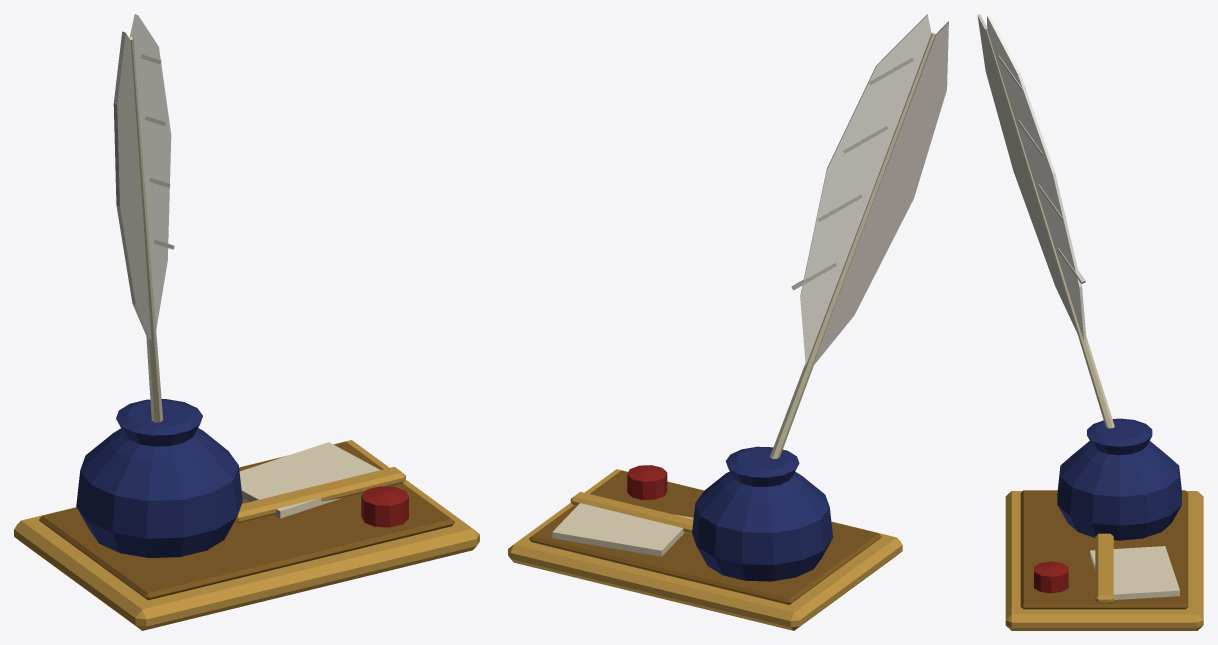
Rendered from inkwell.obj.
3 views of the same model, side by side, from view 1: azimuth 30°, elevation 25°; view 2: azimuth 150°, elevation 25°; view 3: azimuth 270°, elevation 25° (orthographic). The views are drawn at different scales.
Parts seen in each view (by area): view 1: lathe, box.001, box, prism, prism.001, box.007, box.002, lathe.002, lathe.004; view 2: lathe, prism, box, prism.001, box.001, box.007, lathe.002, box.002, lathe.004; view 3: lathe, box.001, box, prism, prism.001, box.007, lathe.002, box.002, lathe.004.
Boxes of the visible parts, x1,y1,x2,y2 form: lathe: (76,399,242,557); box.001: (39,441,454,600); box: (14,440,479,630); prism: (130,14,171,329); prism.001: (113,31,151,340); box.007: (239,442,379,518); box.002: (234,466,405,523); lathe.002: (128,36,163,422); lathe.004: (361,486,408,527); lathe: (692,446,832,581); prism: (800,14,931,365); box: (508,469,902,630); prism.001: (813,21,948,365); box.001: (529,470,881,604); box.007: (552,503,693,556); lathe.002: (770,32,935,458); box.002: (570,492,693,534); lathe.004: (627,465,667,499); lathe: (1057,418,1181,540); box.001: (1020,490,1188,609); box: (1005,491,1203,630); prism: (987,15,1086,341); prism.001: (977,14,1076,331); box.007: (1090,546,1179,599); lathe.002: (985,29,1114,428); box.002: (1095,533,1113,603); lathe.004: (1034,561,1068,593).
Size of the model in its own units: 0.2215 by 0.3512 by 0.1485.
